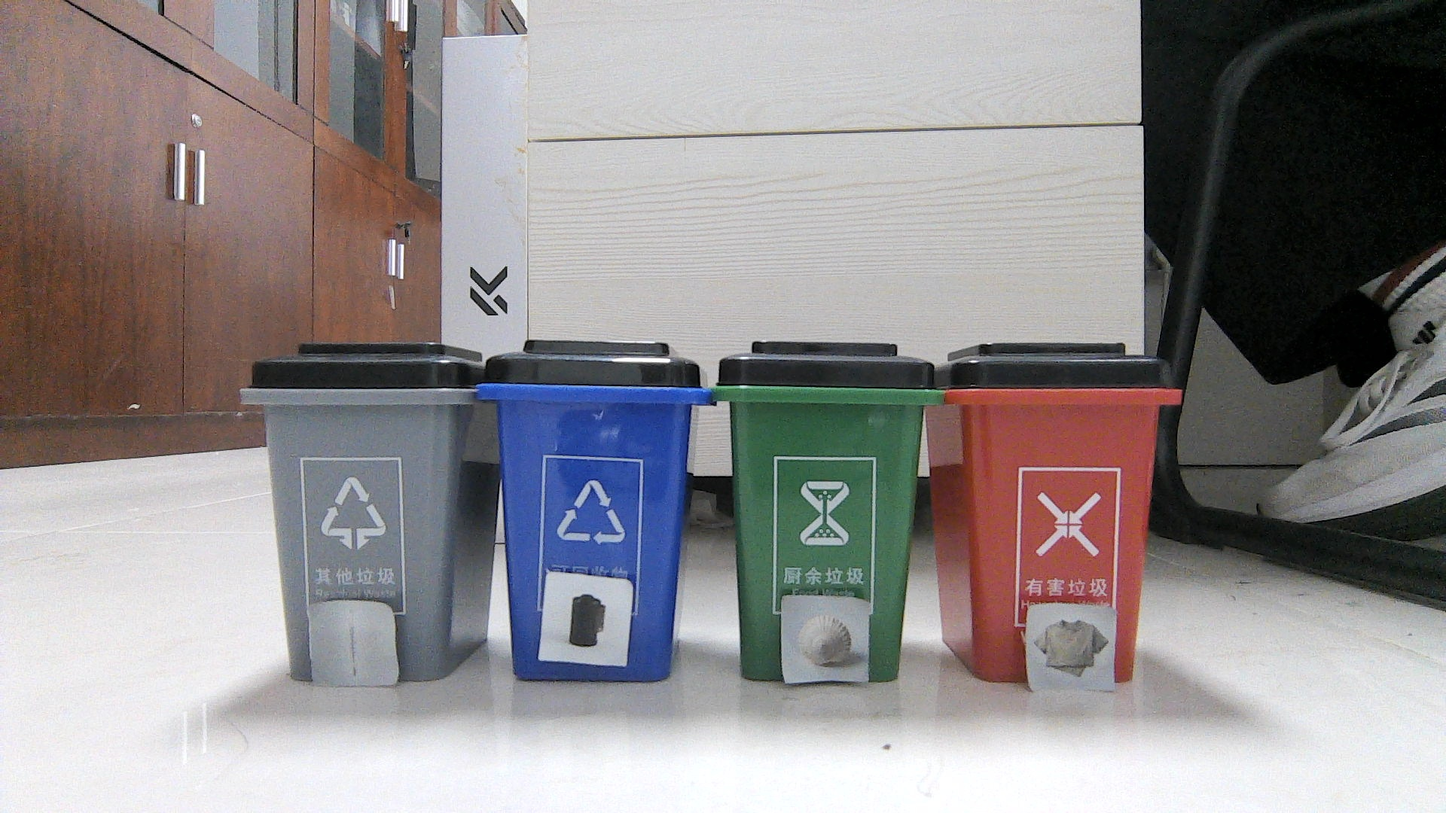hazardous_trash: (314, 604, 393, 684), (550, 582, 615, 657)
other_trash: (787, 600, 862, 678)
recyclable_trash: (1035, 610, 1111, 686)
